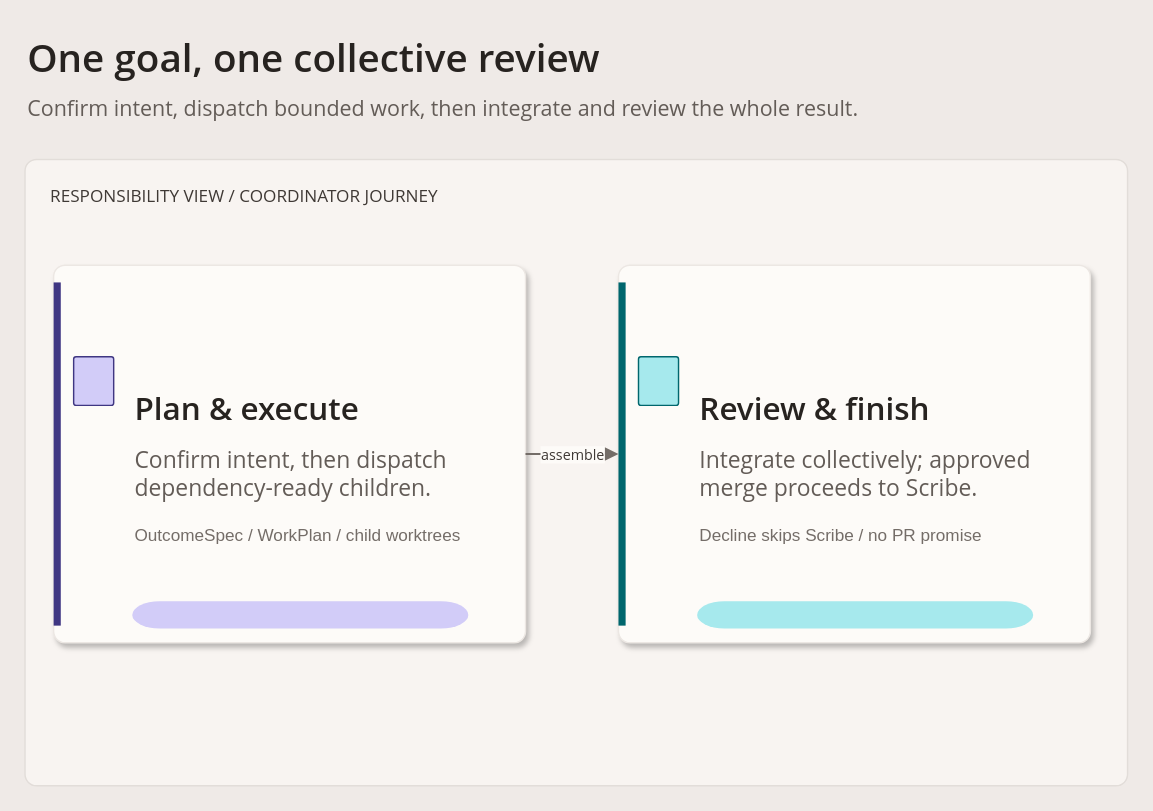
The diagram is 1153 pixels wide and 811 high, and some of its shapes have lost their labels. Here are the shapes that lost their labels. From the top down, the centre of each, then its label:
point (300, 614): COORDINATOR
point (864, 614): COLLECTIVE
